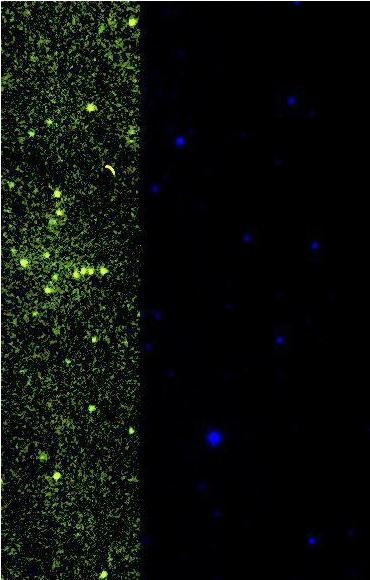star: (9, 0, 39, 28)
